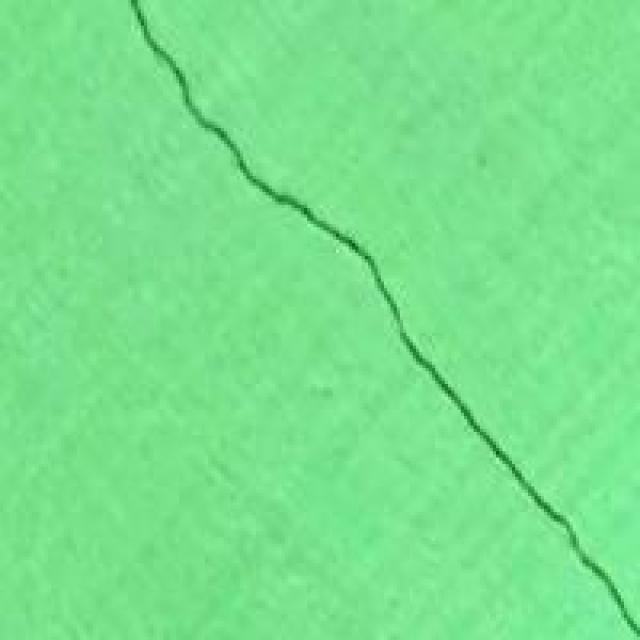crack: (115, 0, 637, 637)
